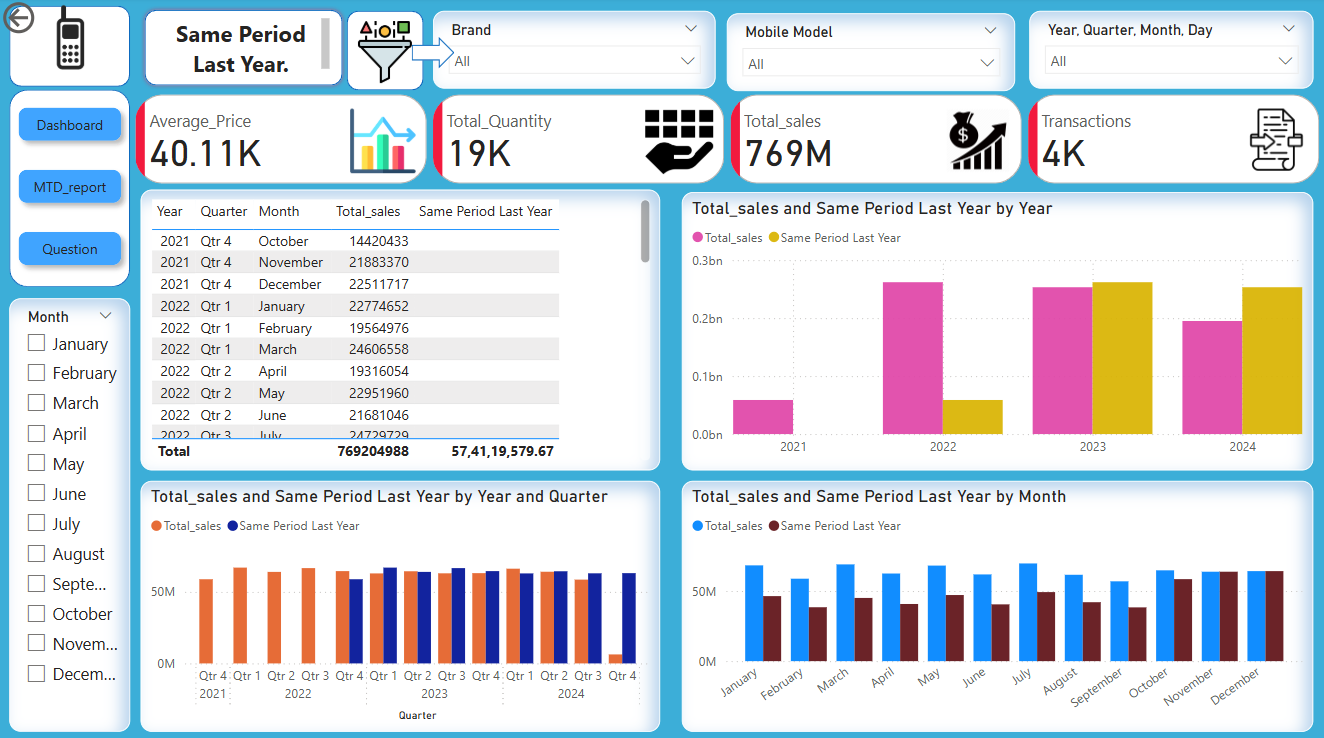

This screenshot's page, from the dashboard's own definition file:
{"tool":"powerbi","page":{"name":"Same Period last year","canvas":[1280,720],"ordinal":2},"visuals":[{"type":"shape","box":[11,8.2,116.6,78.2],"z":0},{"type":"image","box":[22,0,94.7,78.2],"z":1000},{"type":"shape","box":[11,89.2,116.6,190.7],"z":2000},{"type":"shape","box":[11,290.9,116.6,418.5],"z":3000},{"type":"cardVisual","fields":{"Data":["sales_data.Average_Price","sales_data.Total_Quantity","sales_data.Total_sales","sales_data.Transactions"]},"box":[127.6,89.2,1152.7,96.1],"z":4000},{"type":"slicer","fields":{"Values":["Custom_Calender.date.Variation.Date Hierarchy.Year","Custom_Calender.date.Variation.Date Hierarchy.Quarter","Custom_Calender.date.Variation.Date Hierarchy.Month","Custom_Calender.date.Variation.Date Hierarchy.Day"]},"box":[994.9,13.7,274.4,75.5],"z":5000},{"type":"slicer","fields":{"Values":["sales_data.Mobile Model"]},"box":[703.9,15.1,278.6,75.5],"z":6000},{"type":"slicer","fields":{"Values":["sales_data.Brand"]},"box":[419.9,13.7,273.1,75.5],"z":7000},{"type":"shape","box":[336.2,13.7,74.1,76.8],"z":8000},{"type":"image","box":[336.2,8.2,74.1,89.2],"z":9000},{"type":"shape","box":[399.3,38.4,41.2,30.2],"z":10000},{"type":"shape","box":[137.2,8.2,199,81],"z":11000},{"type":"textbox","box":[152.3,15.1,172.9,63.1],"z":12000},{"type":"actionButton","box":[0,0,100,40],"z":13000},{"type":"slicer","fields":{"Values":["Custom_Calender.date.Variation.Date Hierarchy.Month"]},"box":[10.9,290.8,117,418.6],"z":14000},{"type":"tableEx","fields":{"Values":["Custom_Calender.date.Variation.Date Hierarchy.Year","Custom_Calender.date.Variation.Date Hierarchy.Quarter","Custom_Calender.date.Variation.Date Hierarchy.Month","sales_data.Total_sales","sales_data.Same Period Last Year"]},"box":[137.5,185.8,501.9,271.4],"z":15000},{"type":"lineClusteredColumnComboChart","fields":{"Category":["Custom_Calender.date.Variation.Date Hierarchy.Year","Custom_Calender.date.Variation.Date Hierarchy.Quarter","Custom_Calender.date.Variation.Date Hierarchy.Month"],"Y":["sales_data.Total_sales","sales_data.Same Period Last Year"]},"box":[659.9,188.2,609.3,269],"z":15001},{"type":"lineClusteredColumnComboChart","fields":{"Category":["Custom_Calender.date.Variation.Date Hierarchy.Year","Custom_Calender.date.Variation.Date Hierarchy.Quarter","Custom_Calender.date.Variation.Date Hierarchy.Month"],"Y":["sales_data.Total_sales","sales_data.Same Period Last Year"]},"box":[659.9,466.9,609.3,242.5],"z":15002},{"type":"lineClusteredColumnComboChart","fields":{"Category":["Custom_Calender.date.Variation.Date Hierarchy.Year","Custom_Calender.date.Variation.Date Hierarchy.Quarter","Custom_Calender.date.Variation.Date Hierarchy.Month"],"Y":["sales_data.Total_sales","sales_data.Same Period Last Year"]},"box":[137.5,466.9,501.9,242.5],"z":15003},{"type":"pageNavigator","box":[10.9,97.7,117,171.3],"z":15004}]}

Visuals, with their boxes in screenshot pixels (x1, y1, x2, y2), scaled from the page's 1280x720 canvas onto the 1324x738 screenshot:
shape: select_region(11, 8, 132, 89)
image: select_region(23, 0, 121, 80)
shape: select_region(11, 91, 132, 287)
shape: select_region(11, 298, 132, 727)
cardVisual - sales_data.Average_Price x sales_data.Total_Quantity: select_region(132, 91, 1323, 190)
slicer - Custom_Calender.date.Variation.Date Hierarchy.Year x Custom_Calender.date.Variation.Date Hierarchy.Quarter: select_region(1029, 14, 1313, 91)
slicer - sales_data.Mobile Model: select_region(728, 15, 1016, 93)
slicer - sales_data.Brand: select_region(434, 14, 717, 91)
shape: select_region(348, 14, 424, 93)
image: select_region(348, 8, 424, 100)
shape: select_region(413, 39, 456, 70)
shape: select_region(142, 8, 348, 91)
textbox: select_region(158, 15, 336, 80)
actionButton: select_region(0, 0, 103, 41)
slicer - Custom_Calender.date.Variation.Date Hierarchy.Month: select_region(11, 298, 132, 727)
tableEx - Custom_Calender.date.Variation.Date Hierarchy.Year x Custom_Calender.date.Variation.Date Hierarchy.Quarter: select_region(142, 190, 661, 469)
lineClusteredColumnComboChart - Custom_Calender.date.Variation.Date Hierarchy.Year x Custom_Calender.date.Variation.Date Hierarchy.Quarter: select_region(683, 193, 1313, 469)
lineClusteredColumnComboChart - Custom_Calender.date.Variation.Date Hierarchy.Year x Custom_Calender.date.Variation.Date Hierarchy.Quarter: select_region(683, 479, 1313, 727)
lineClusteredColumnComboChart - Custom_Calender.date.Variation.Date Hierarchy.Year x Custom_Calender.date.Variation.Date Hierarchy.Quarter: select_region(142, 479, 661, 727)
pageNavigator: select_region(11, 100, 132, 276)
